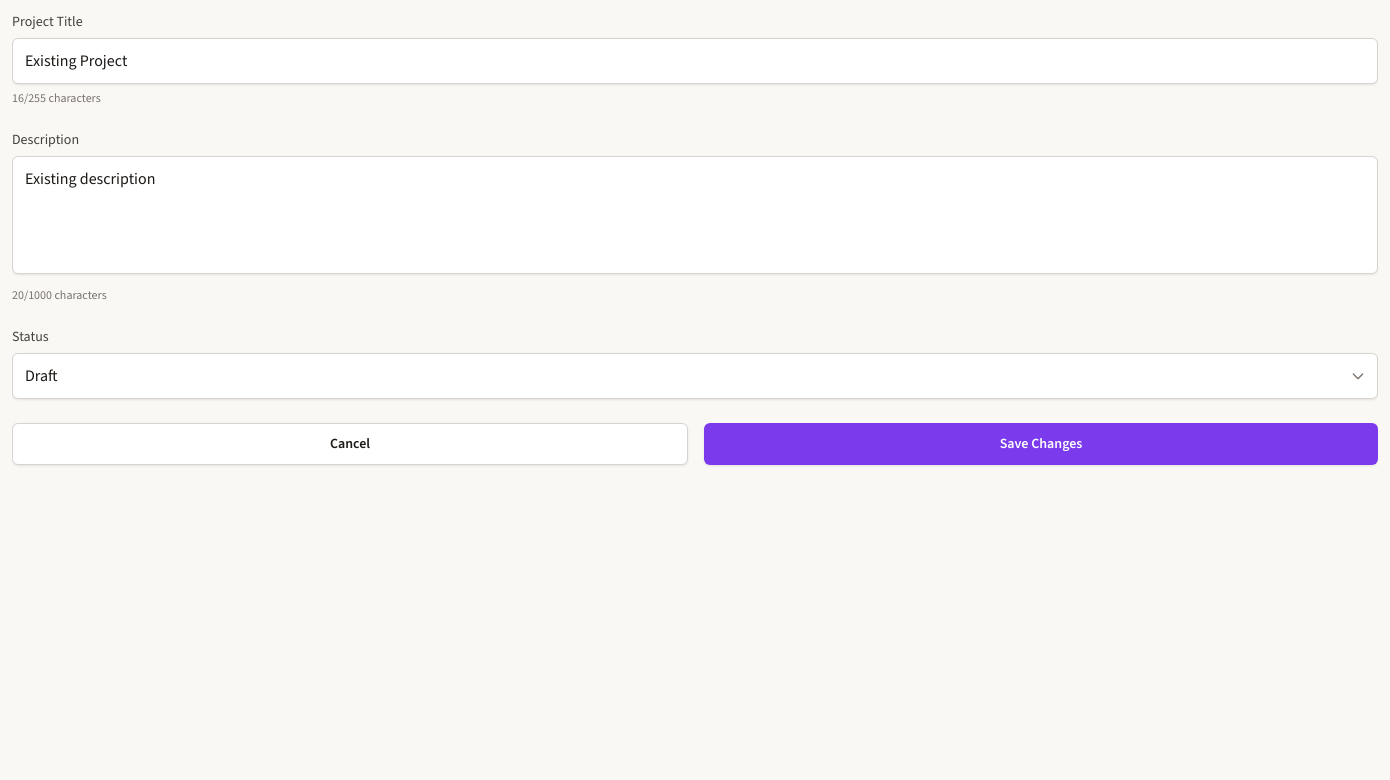
Test: EditProjectForm › Form Submission › should show error message on API failure
The image size is (1390, 780).
Click the button "Save Changes": (1041, 444) [704, 423, 1378, 465]
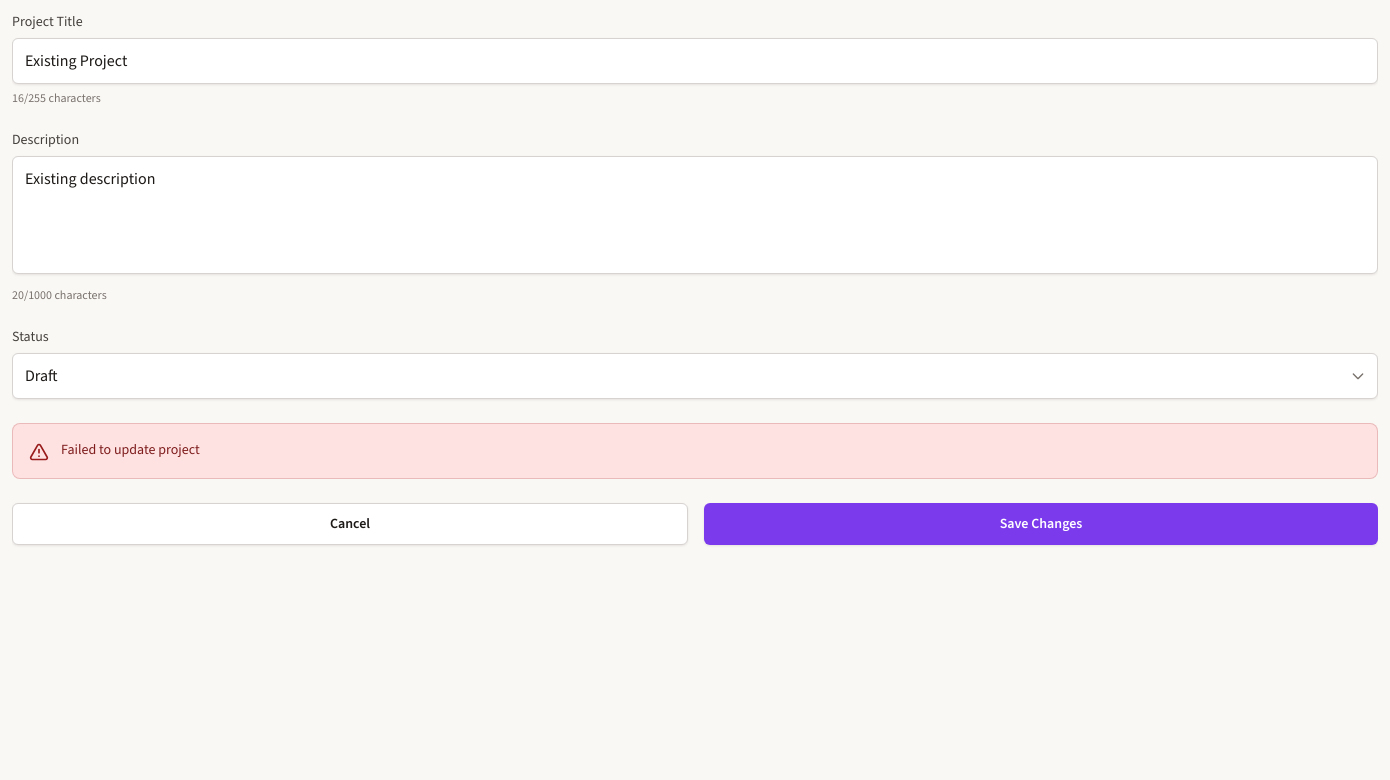
Check: the message shows "Failed to update", box [61, 440, 200, 459]
